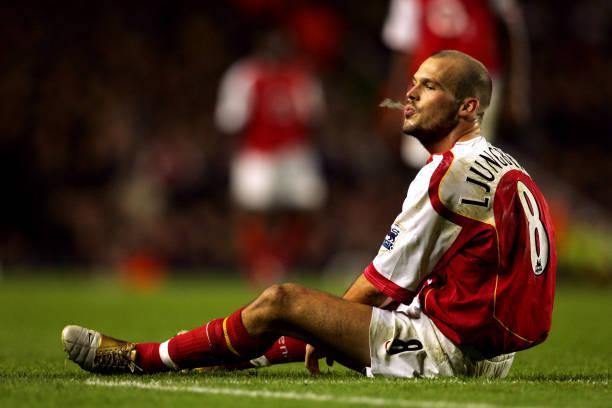Spitting: (377, 39, 512, 139)
